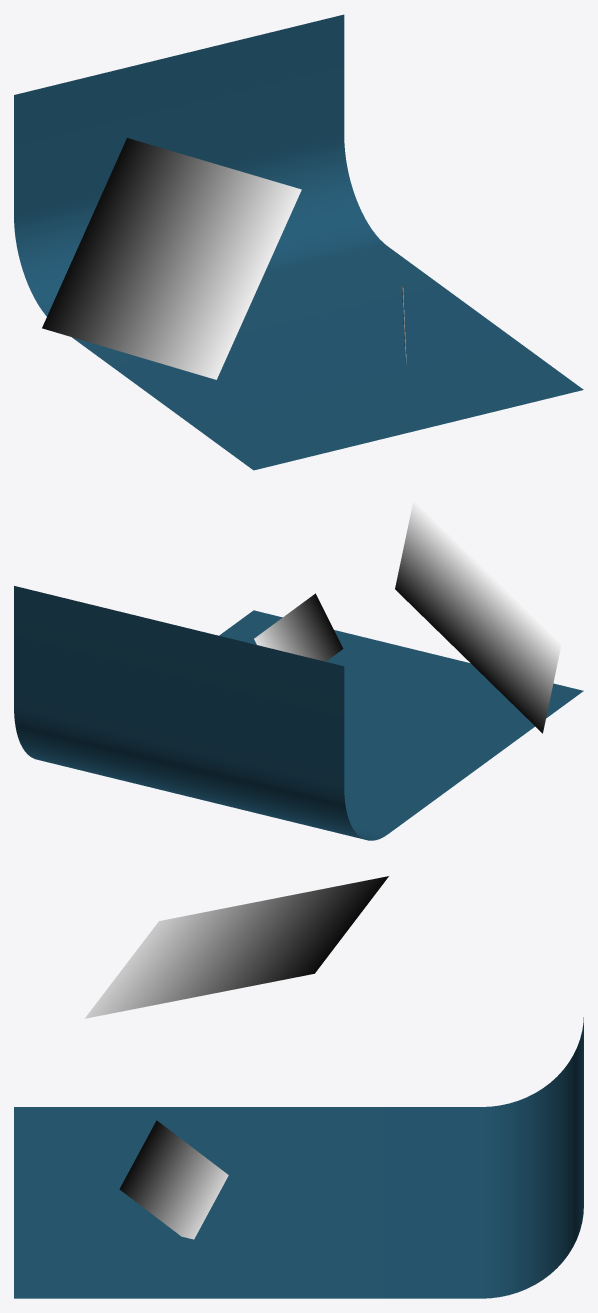
The model's file is axiom-main-bottom-section.glb.
3 renders of one model, top to bottom at view 1: azimuth 30°, elevation 25°; view 2: azimuth 150°, elevation 25°; view 3: azimuth 270°, elevation 25°, orthographic. The views are drawn at different scales.
Visible parts, largest first — view 1: Plane, Graadient #20.001; view 2: Plane, Graadient #20.001, Graadient #20; view 3: Plane, Graadient #20.001, Graadient #20.
Part boxes in pixels (<box>): Plane: <box>14,14,583,470</box>; Graadient #20.001: <box>42,138,301,379</box>; Plane: <box>14,586,583,840</box>; Graadient #20.001: <box>395,499,561,733</box>; Graadient #20: <box>254,593,343,661</box>; Plane: <box>14,1017,583,1298</box>; Graadient #20.001: <box>85,876,388,1018</box>; Graadient #20: <box>119,1120,228,1239</box>.
Size of the model in its own units: 2.6 by 1.28 by 2.6.
3 materials, 2 textured.
